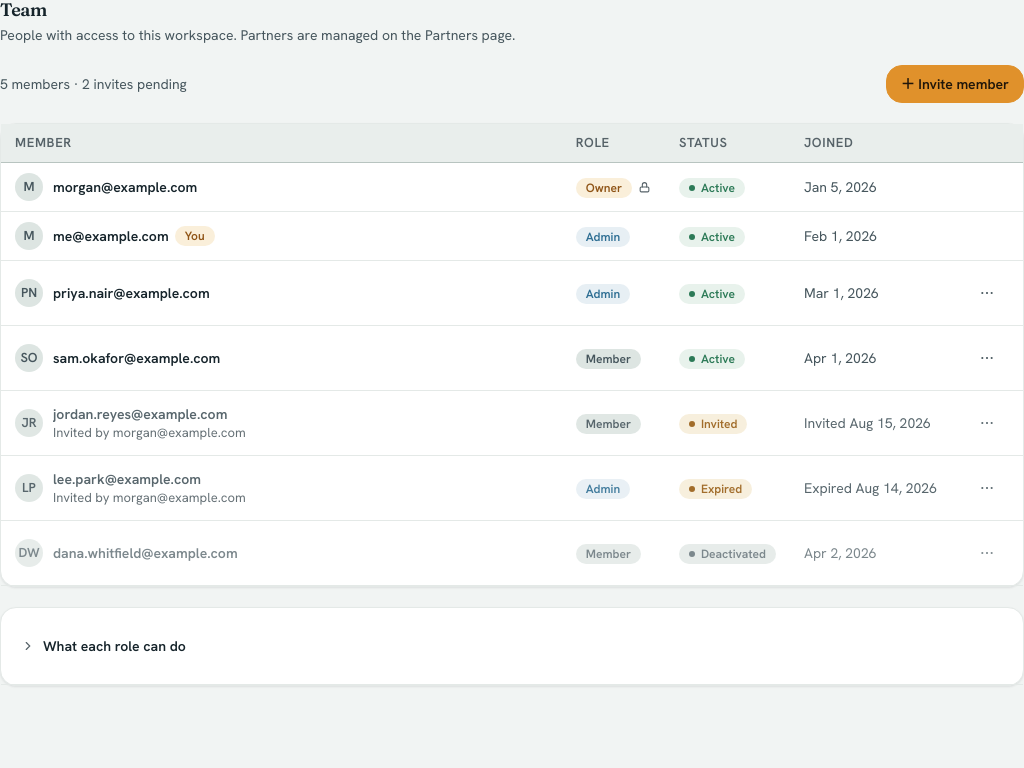
TM-08/TM-09: seat lifecycle dialogs › TM-08: a demotion lists the capabilities lost and labels the confirm with the verb
The width and height of the screenshot is (1024, 768).
Click the button named "Actions for sam.okafor@example.com".
click(987, 358)  # box [965, 336, 1009, 380]
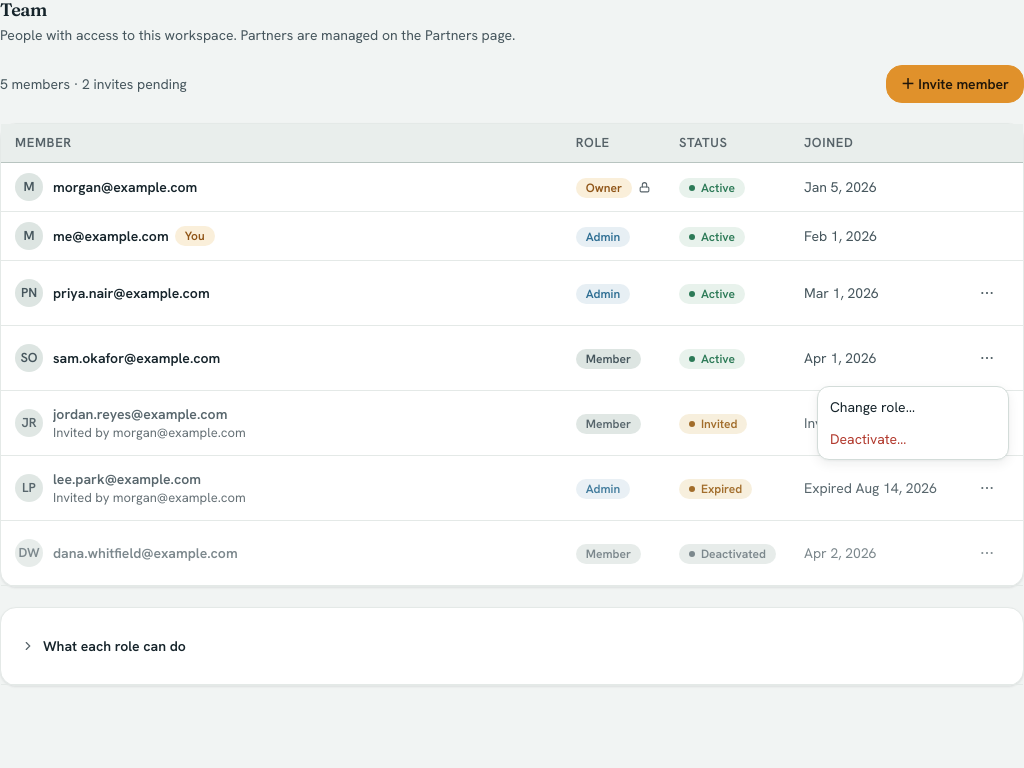
Click the menu item "Change role…".
click(872, 407)  # box [830, 398, 915, 416]
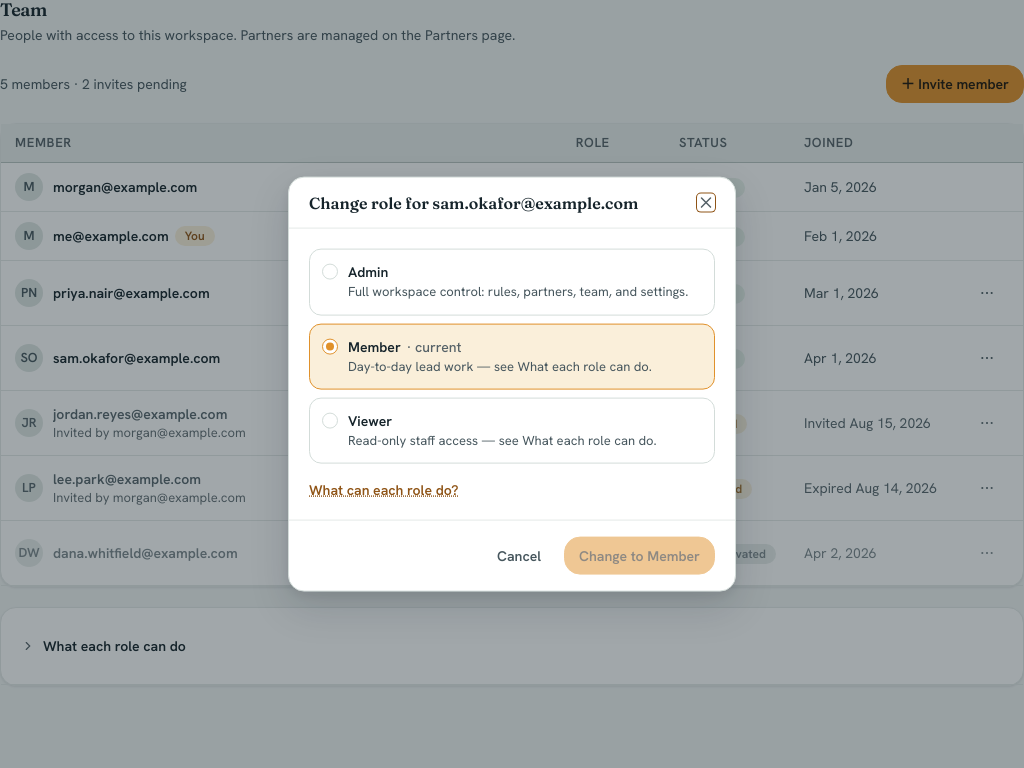
Expected: the text "will immediately lose" is not shown
Click the radio button labelled "Viewer Read-only staff access — see What each role can do.".
click(512, 430)  # box [309, 397, 715, 463]
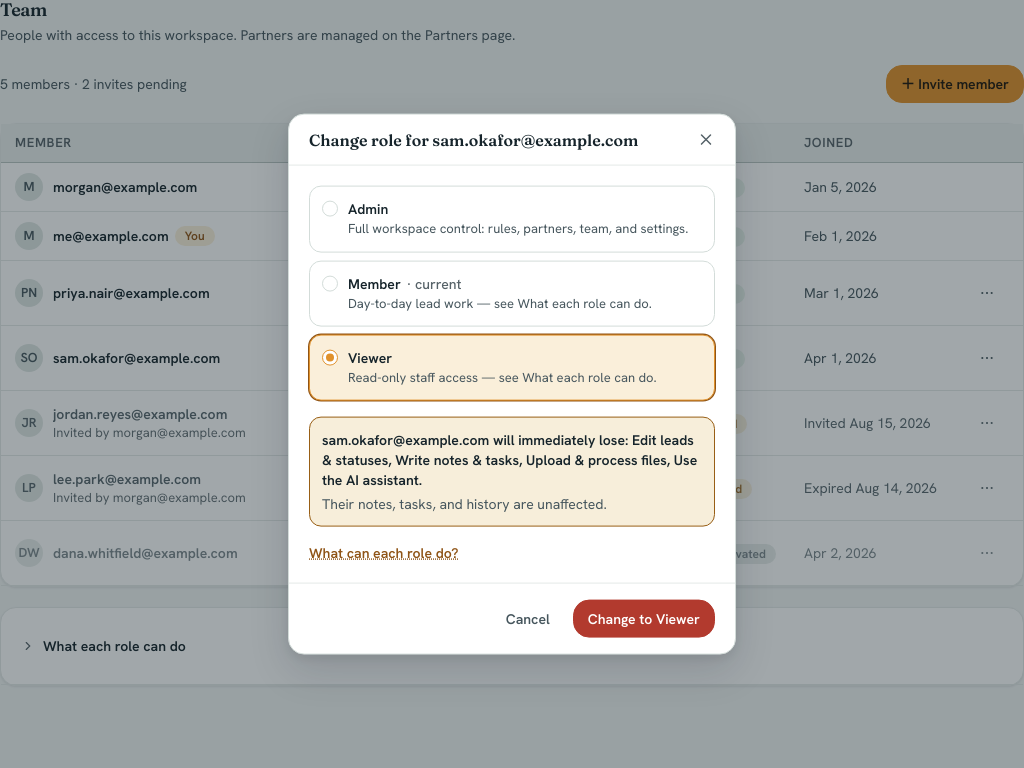
Now the text "will immediately lose" shows "Edit leads & statuses", box [322, 430, 697, 488]
Now the text "will immediately lose" shows "Upload & process files", box [322, 430, 697, 488]
Now the button "Change to Viewer" is shown, box [573, 599, 715, 637]
